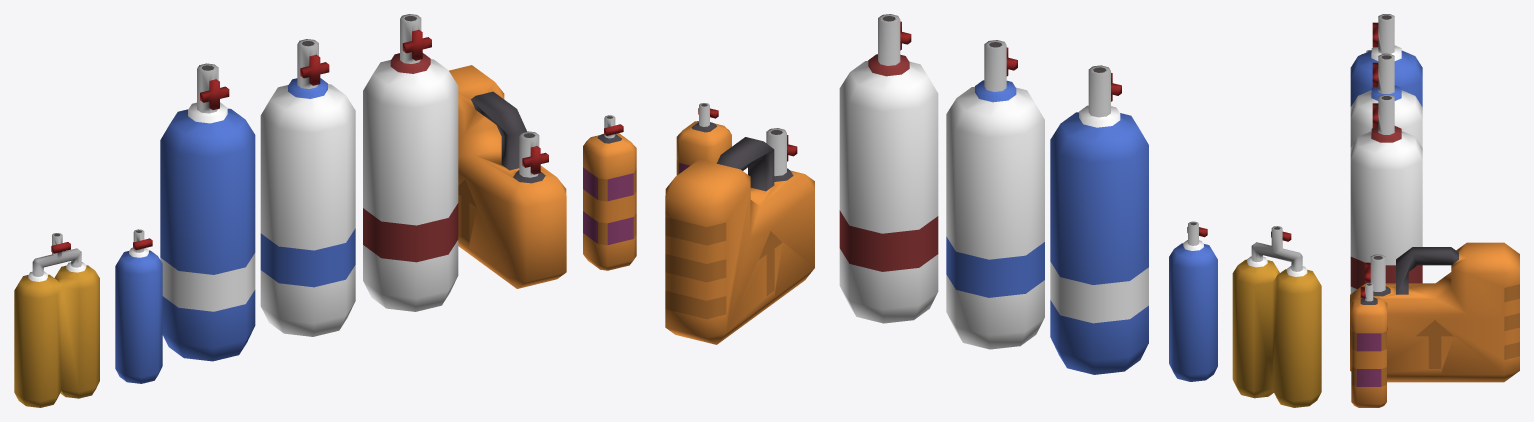
File: air tanks.fbx
3 renders of one model, left to right at view 1: azimuth 30°, elevation 25°; view 2: azimuth 150°, elevation 25°; view 3: azimuth 270°, elevation 25°, orthographic. The views are drawn at different scales.
Parts seen in each view (by area): view 1: Tank Air, Tank Anesthesia, Tank Oxygen, Tank Plasma, Tank Oxygen Emergency Extended, Tank Plasma Emergency, Tank Oxygen Emergency; view 2: Tank Anesthesia, Tank Air, Tank Oxygen, Tank Plasma, Tank Oxygen Emergency Extended, Tank Oxygen Emergency, Tank Plasma Emergency; view 3: Tank Plasma, Tank Anesthesia, Tank Plasma Emergency, Tank Air, Tank Oxygen.
Boxes of the visible parts, <box> form: Tank Air: <box>260,39,355,336</box>; Tank Anesthesia: <box>363,14,458,311</box>; Tank Oxygen: <box>160,63,255,361</box>; Tank Plasma: <box>449,65,566,288</box>; Tank Oxygen Emergency Extended: <box>14,233,99,407</box>; Tank Plasma Emergency: <box>583,115,636,270</box>; Tank Oxygen Emergency: <box>115,229,162,383</box>; Tank Anesthesia: <box>839,14,938,323</box>; Tank Air: <box>946,40,1044,349</box>; Tank Oxygen: <box>1050,65,1148,374</box>; Tank Plasma: <box>665,128,814,344</box>; Tank Oxygen Emergency Extended: <box>1232,226,1321,407</box>; Tank Oxygen Emergency: <box>1169,221,1217,381</box>; Tank Plasma Emergency: <box>676,103,731,175</box>; Tank Plasma: <box>1350,242,1519,382</box>; Tank Anesthesia: <box>1350,94,1422,293</box>; Tank Plasma Emergency: <box>1351,282,1387,407</box>; Tank Air: <box>1350,53,1422,147</box>; Tank Oxygen: <box>1350,14,1422,106</box>.
Size of the model in its own units: 1.59 by 0.709 by 0.4715.
